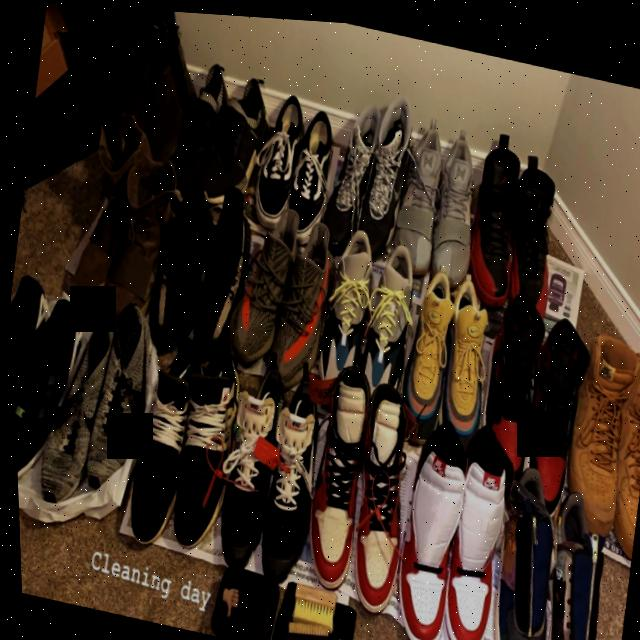shoes: (107, 316, 214, 571), (149, 319, 253, 577), (330, 371, 429, 625), (198, 337, 296, 588), (21, 295, 125, 531), (67, 286, 166, 528), (288, 352, 382, 602), (244, 346, 337, 598), (501, 296, 601, 525), (378, 407, 476, 640), (545, 308, 640, 542), (428, 406, 523, 640), (462, 271, 556, 492), (449, 110, 539, 316), (215, 187, 311, 376), (383, 243, 468, 452), (260, 204, 344, 401), (427, 256, 506, 449), (491, 138, 568, 318), (307, 212, 385, 383), (345, 229, 425, 387), (273, 93, 345, 257), (245, 77, 313, 232)
